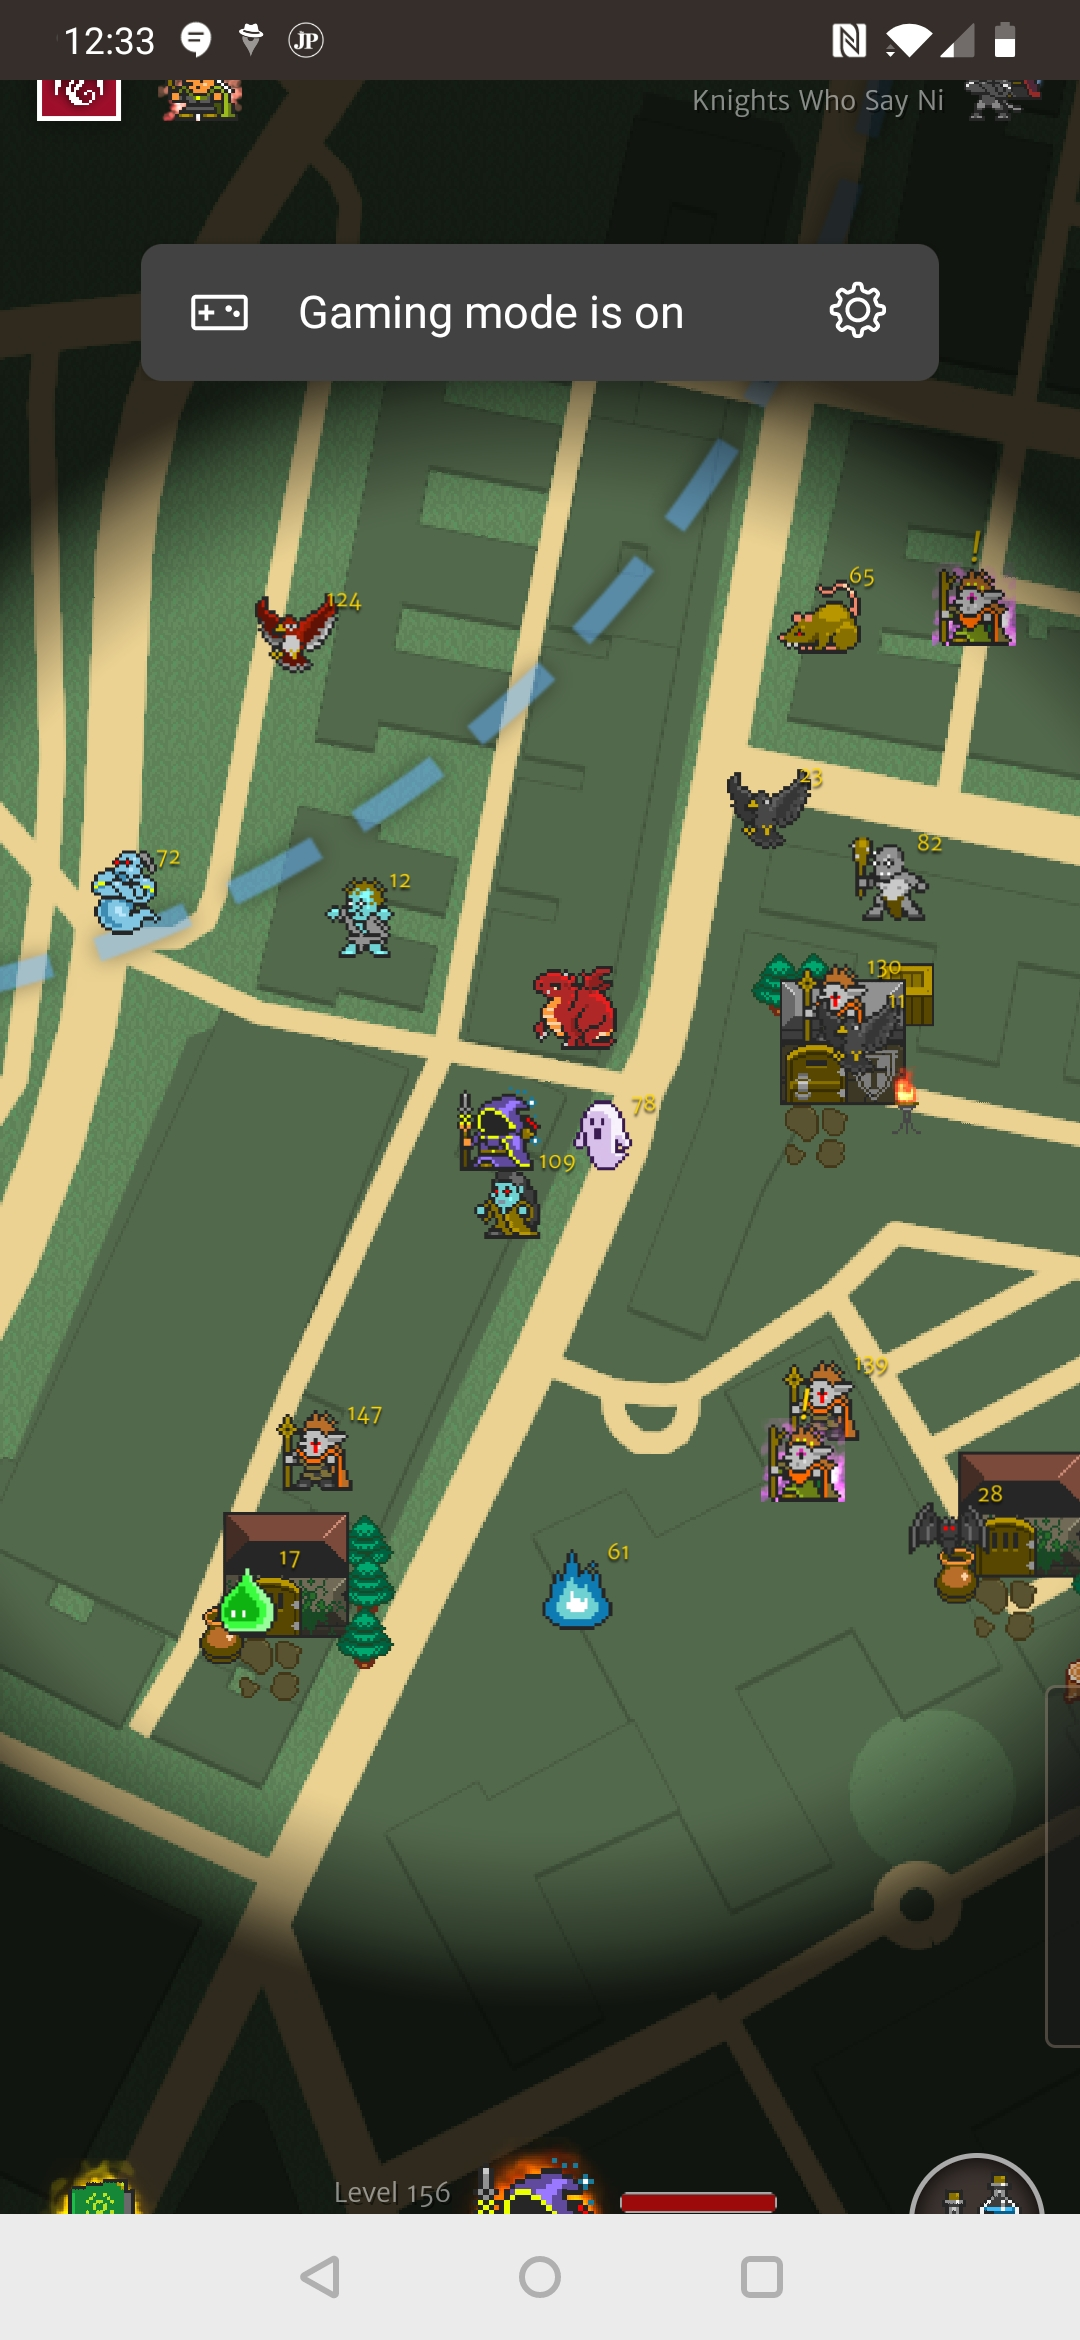monster: (238, 589, 372, 694), (772, 555, 882, 681), (264, 1396, 390, 1496), (780, 1343, 897, 1448), (721, 761, 838, 855), (80, 845, 195, 937), (323, 863, 418, 971), (536, 1537, 631, 1643), (846, 835, 946, 925), (221, 1550, 305, 1635), (577, 1096, 662, 1176)
player: (456, 1086, 538, 1176)
